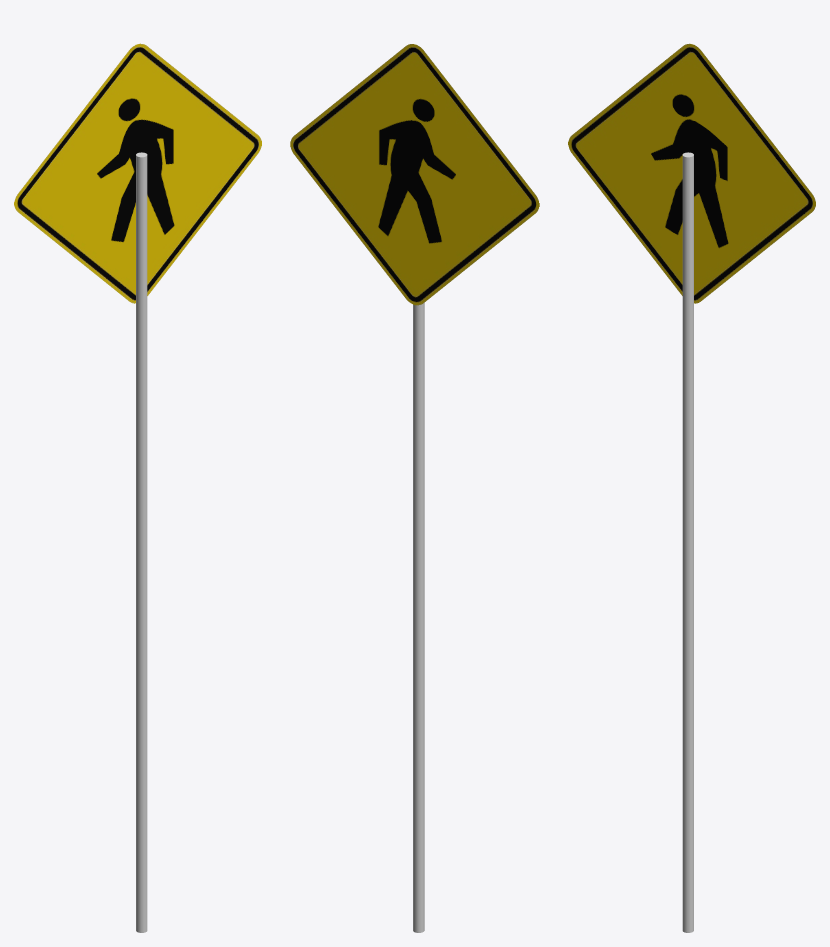
The model's file is jalan kaki.fbx.
The picture shows the model from 3 angles, left to right: view 1: azimuth 30°, elevation 25°; view 2: azimuth 150°, elevation 25°; view 3: azimuth 330°, elevation 25°; orthographic projection.
Visible parts, largest first — view 1: Plane, Cylinder; view 2: Plane, Cylinder; view 3: Plane, Cylinder.
Part boxes in pixels (x1,y1,x2,y2): Plane: (14,43,261,303); Cylinder: (136,152,147,932); Plane: (290,44,539,305); Cylinder: (413,303,424,932); Plane: (568,43,815,303); Cylinder: (682,152,693,932).
Bounding box in the file's own units: 200 × 682 × 9.27.
